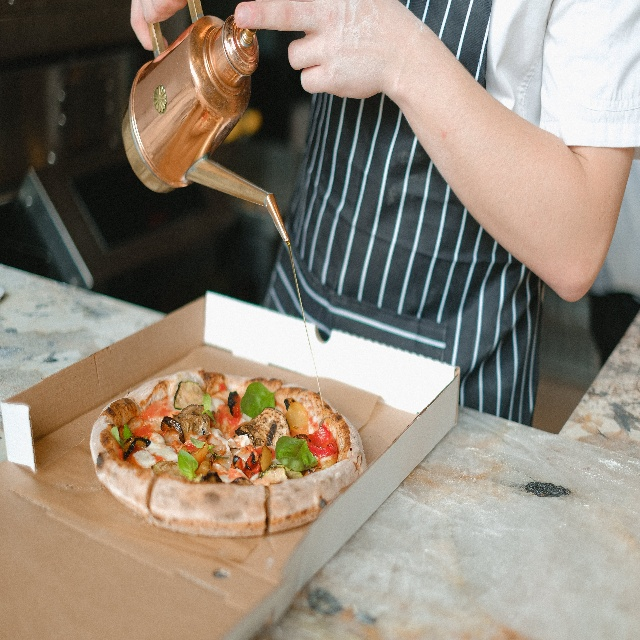Sin_guantes: (235, 0, 393, 107), (128, 0, 192, 53)
